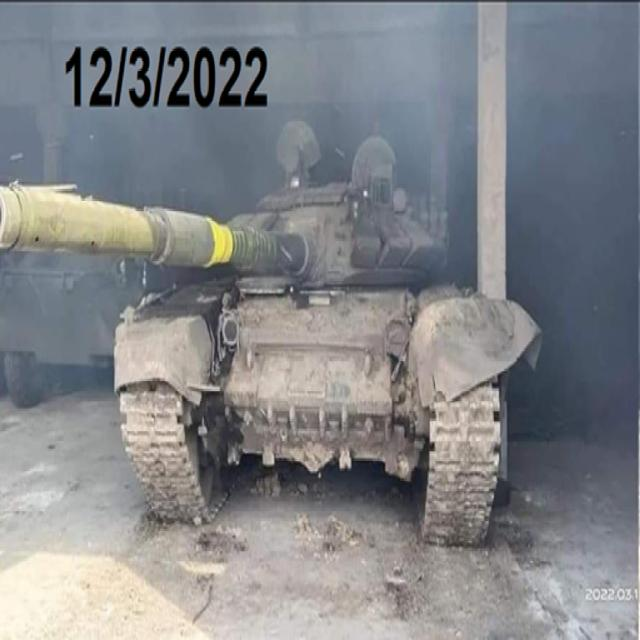TANK: (0, 118, 538, 553)
